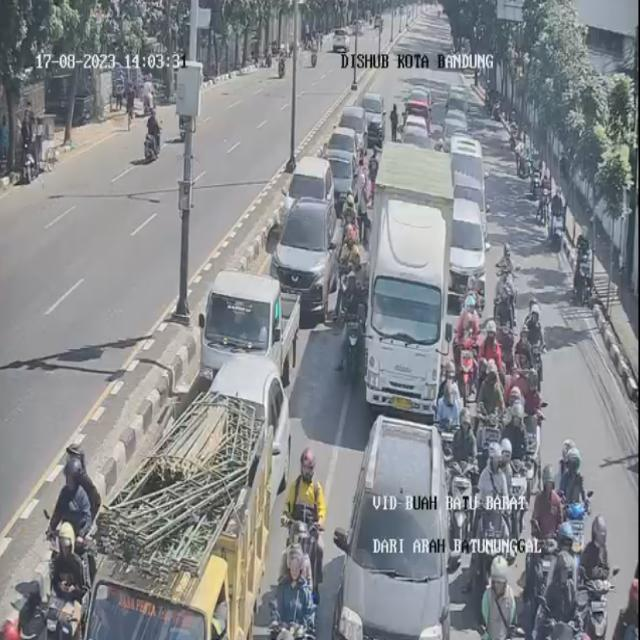cars: (339, 421, 475, 640), (199, 273, 294, 394), (273, 195, 339, 318), (447, 196, 489, 294), (284, 160, 334, 230), (322, 129, 360, 203), (450, 133, 486, 207), (342, 104, 373, 149), (360, 91, 385, 136), (443, 110, 469, 151), (400, 121, 433, 152)
motorcycle: (46, 443, 98, 586), (279, 446, 325, 593), (555, 439, 591, 599), (475, 442, 515, 572), (48, 525, 92, 638), (537, 538, 582, 640), (581, 516, 616, 640), (272, 540, 314, 638), (506, 404, 540, 522), (455, 288, 483, 412), (480, 558, 518, 640), (435, 370, 464, 471), (530, 469, 562, 558), (478, 364, 505, 468), (449, 413, 478, 508), (526, 301, 550, 409), (340, 192, 366, 284), (344, 271, 367, 374), (511, 322, 537, 412), (497, 242, 518, 310), (576, 222, 593, 301), (483, 322, 503, 378), (548, 188, 562, 256), (500, 138, 515, 194)
truck: (84, 398, 267, 636), (362, 146, 452, 427)
